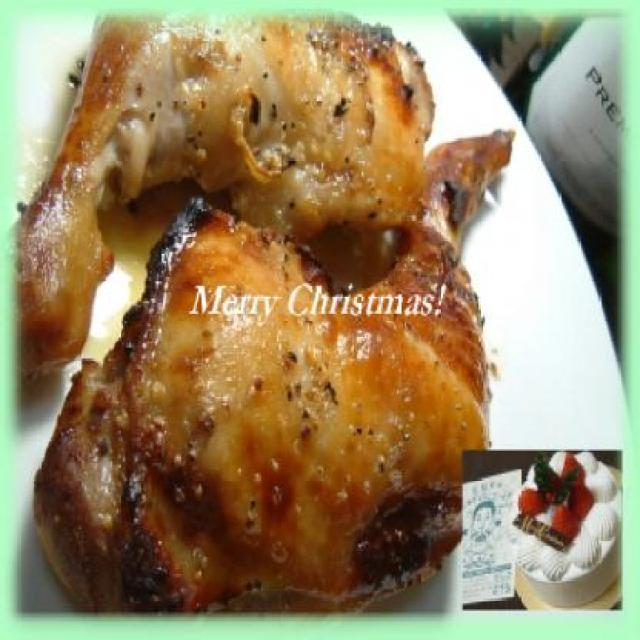Chicken roast: (31, 8, 487, 627)
